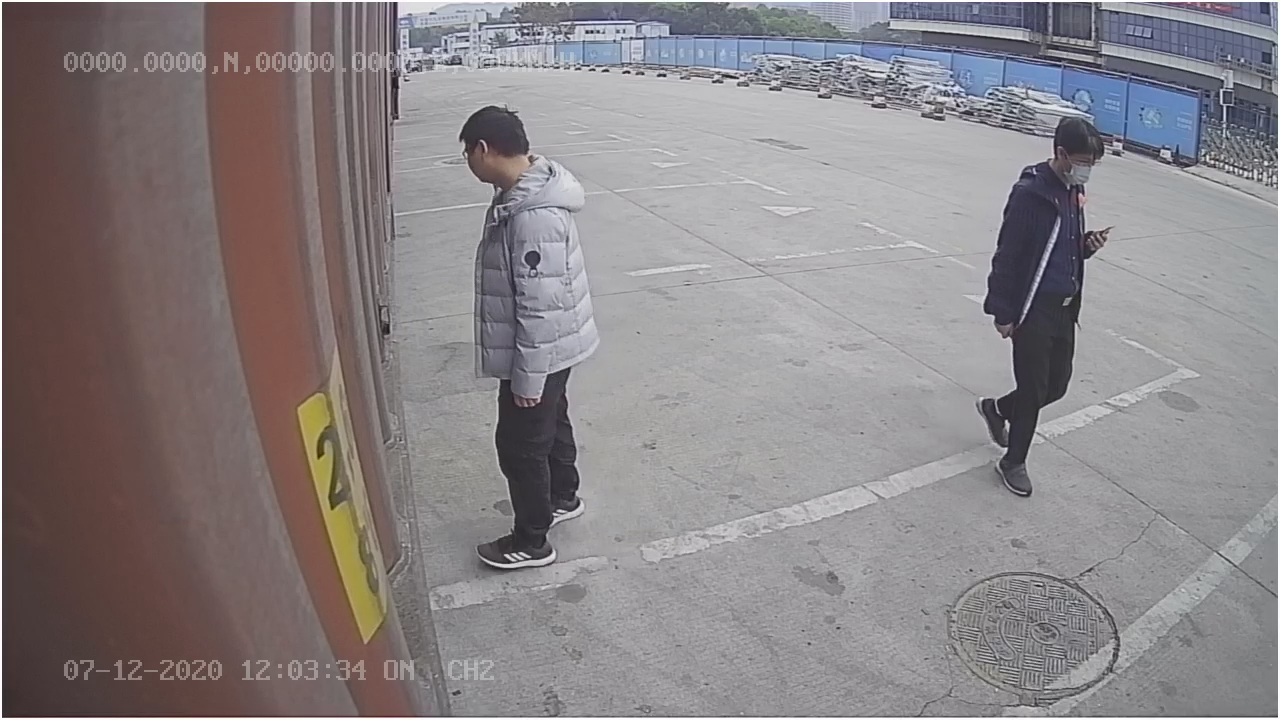person: (447, 101, 598, 569), (966, 95, 1111, 497)
